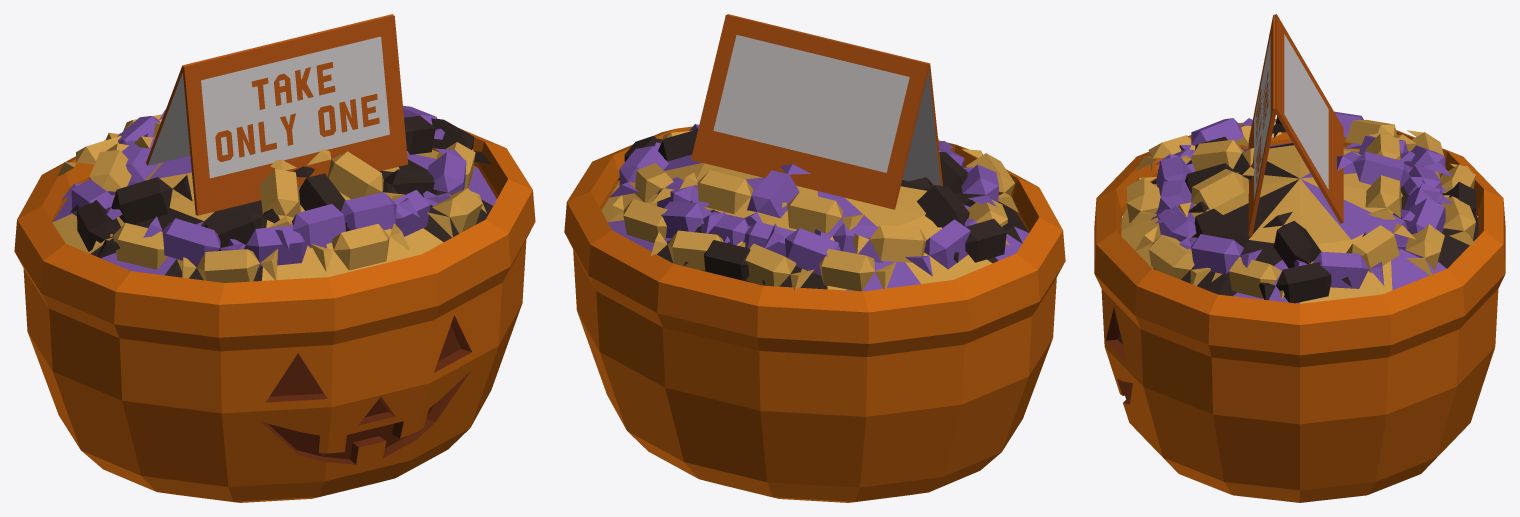
The model's file is please-take-one-candy-2eed38.glb.
3 views of the same model, side by side, from view 1: azimuth 30°, elevation 25°; view 2: azimuth 150°, elevation 25°; view 3: azimuth 270°, elevation 25° (orthographic). The views are drawn at different scales.
Visible parts, largest first — view 1: bowl, sign-card, take-one-sweet; view 2: bowl, sign-card; view 3: bowl, sign-card, take-one-sweet.
Part boxes in pixels (box(x1,y1,x2,y2)): bowl: box(14, 105, 535, 502); sign-card: box(146, 14, 408, 215); take-one-sweet: box(311, 223, 409, 271); bowl: box(564, 124, 1065, 502); sign-card: box(691, 14, 942, 209); bowl: box(1094, 111, 1505, 502); sign-card: box(1248, 14, 1343, 236); take-one-sweet: box(1127, 177, 1160, 229).
Bounding box in the file's own units: 0.4 × 0.3344 × 0.3315.
